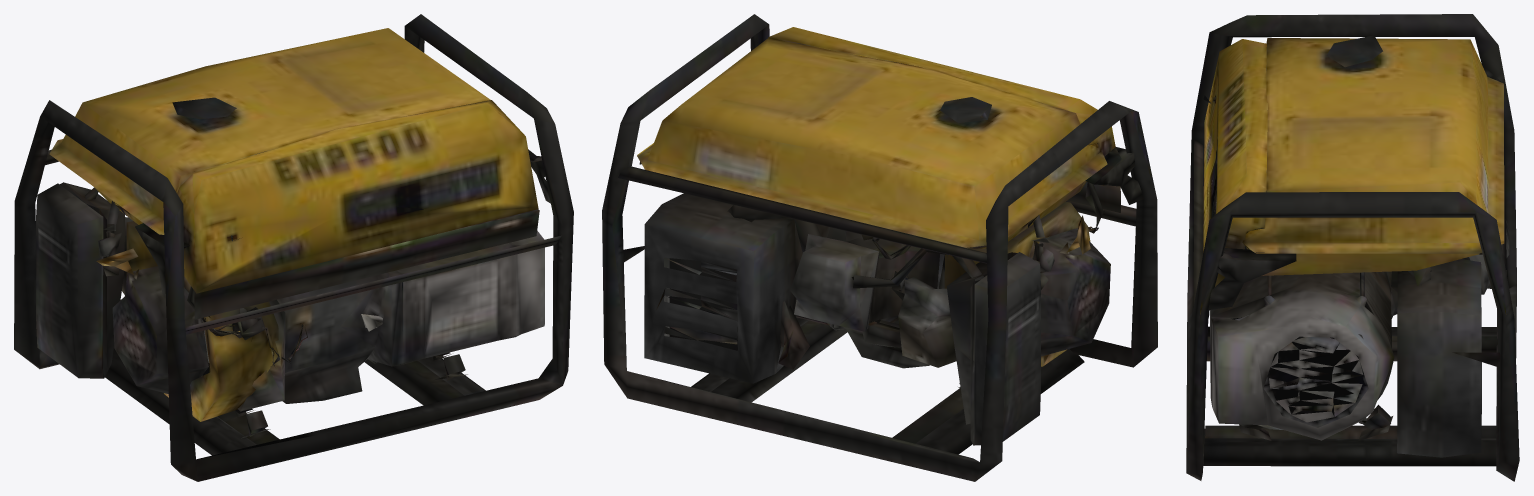
Rendered from generator.glb.
The picture shows the model from 3 angles, left to right: view 1: azimuth 30°, elevation 25°; view 2: azimuth 150°, elevation 25°; view 3: azimuth 270°, elevation 25°; orthographic projection.
Visible parts, largest first — view 1: lo; view 2: lo; view 3: lo.
Boxes of the visible parts, x1=… form: lo: x1=14, y1=14, x2=573, y2=481; lo: x1=602, y1=14, x2=1157, y2=481; lo: x1=1186, y1=14, x2=1519, y2=481.
Size of the model in its own units: 0.814 by 0.5772 by 0.5677.
1 material, 1 textured.
